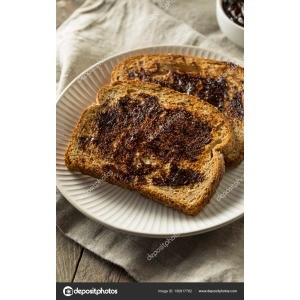yeast spread_brain food: (92, 70, 226, 184), (213, 1, 244, 36)
